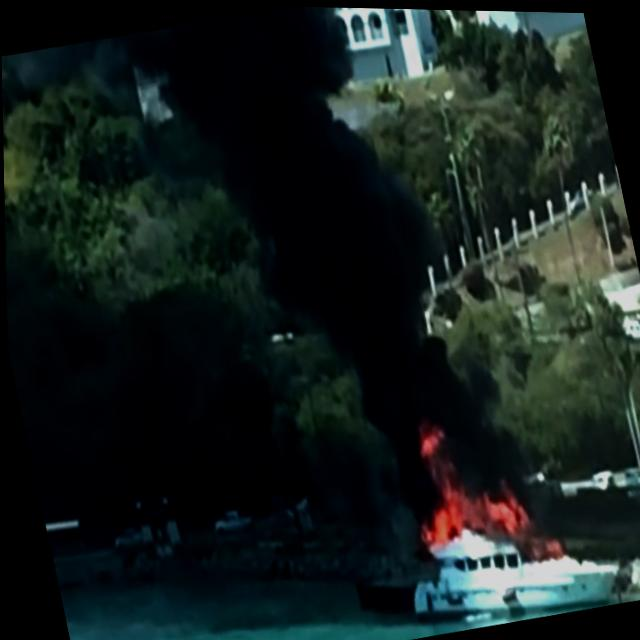fire: (396, 429, 526, 588)
smoke: (178, 3, 378, 268)
